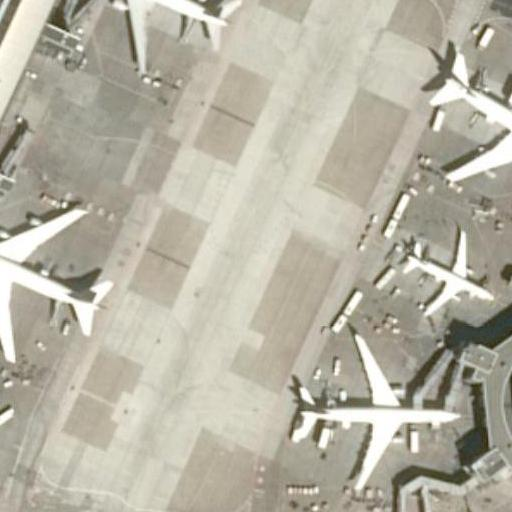Aircraft: (281, 324, 463, 496), (0, 190, 114, 364), (415, 23, 512, 187), (66, 0, 245, 77), (394, 222, 499, 316), (0, 362, 18, 457), (0, 484, 12, 512), (499, 0, 512, 2)
